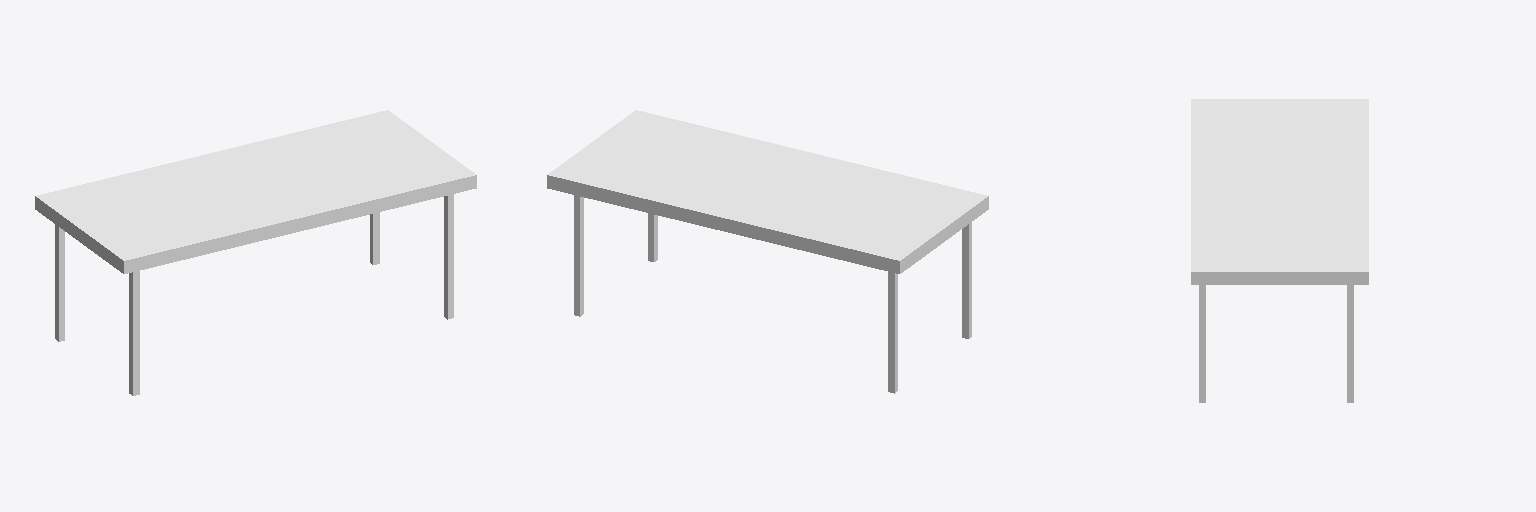
Rendered from Mesa.obj.
The picture shows the model from 3 angles: view 1: azimuth 30°, elevation 25°; view 2: azimuth 150°, elevation 25°; view 3: azimuth 270°, elevation 25°; orthographic projection.
Parts seen in each view (by area): view 1: object 1; view 2: object 1; view 3: object 1.
Part boxes in pixels (x1,y1,x2,y2): object 1: (35,110,476,395); object 1: (547,110,988,393); object 1: (1191,99,1368,402).
Bounding box in the file's own units: 5.5 × 2.1 × 2.4.